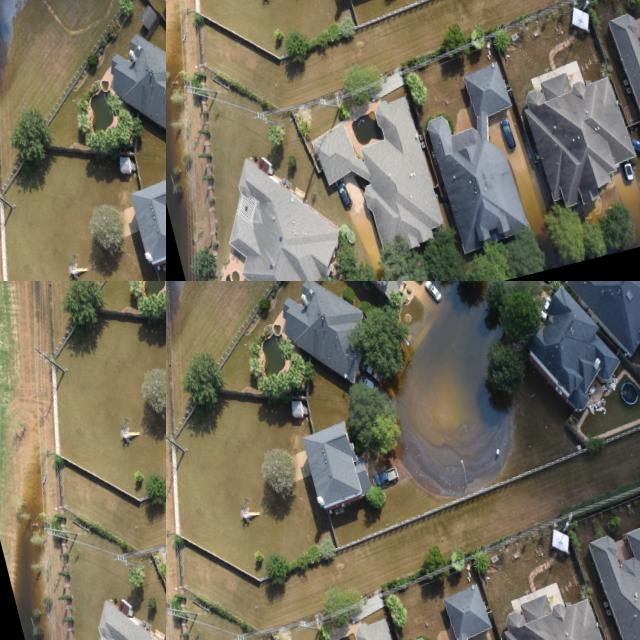fire: (394, 281, 515, 496), (545, 0, 640, 239)
